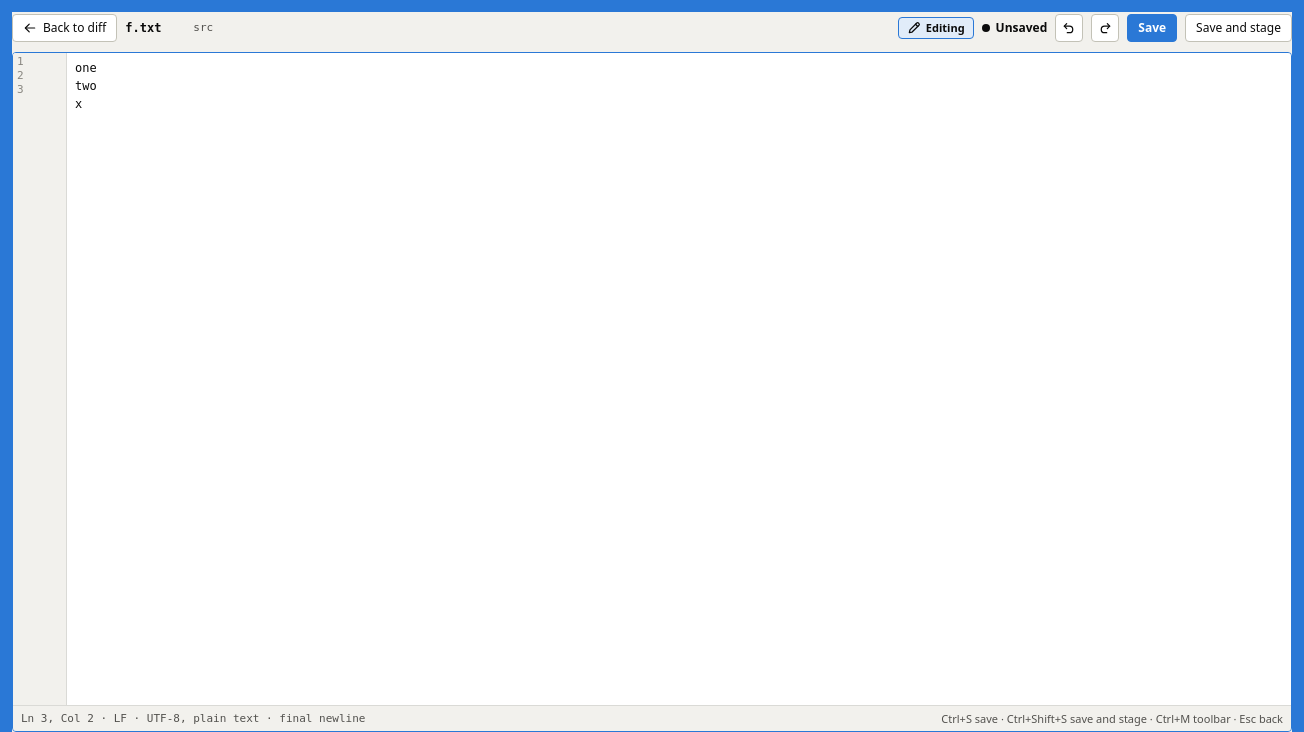
Test: EditorPane save flow (specs/edit-in-diff.md FR-470, FR-474, FR-537) › a write error shows the one-line banner with the raw detail behind Show details; the buffer stays dirty
Press s in the field named "Editing src/f.txt", box [75,61,97,111]
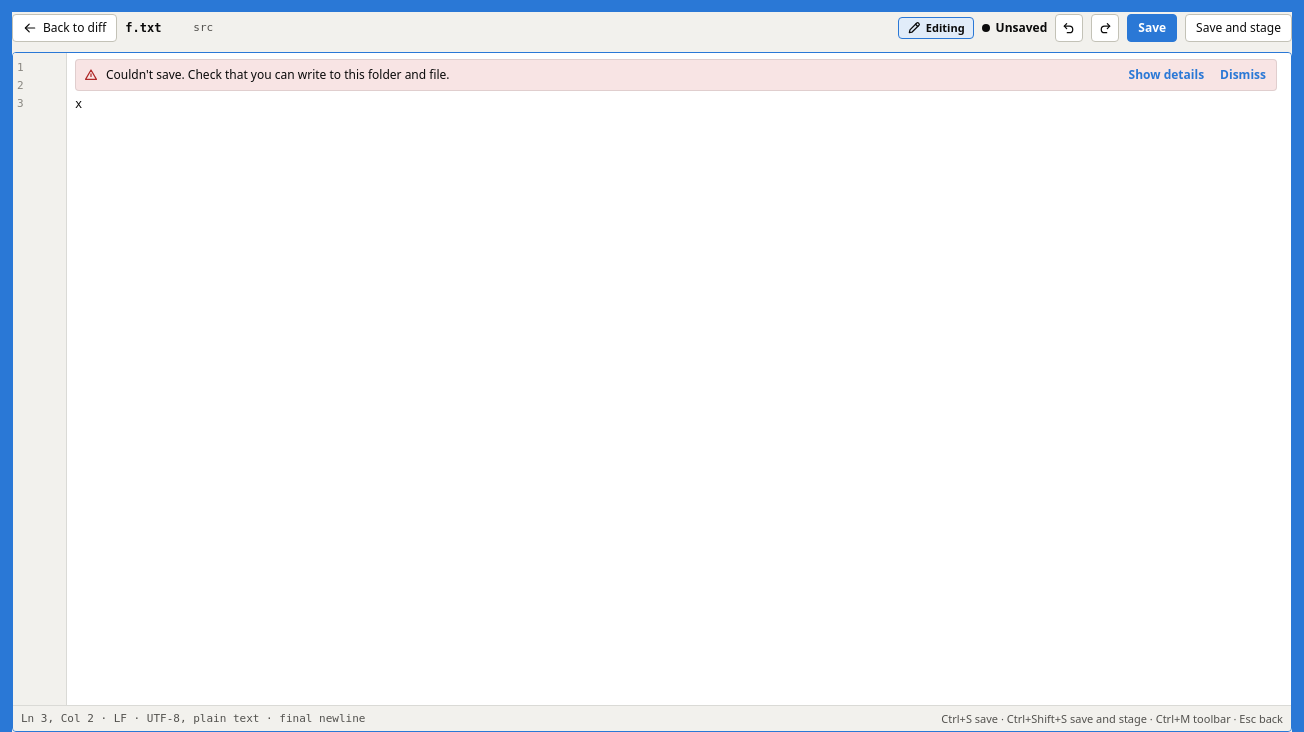
Check: the text "read-only: The file is read-only" is not shown
Check: the message shows "Couldn't save. Check that you can write to this folder and file.", box [106,66,450,83]
Click the button "Show details": (1166, 75) [1123,63,1210,87]
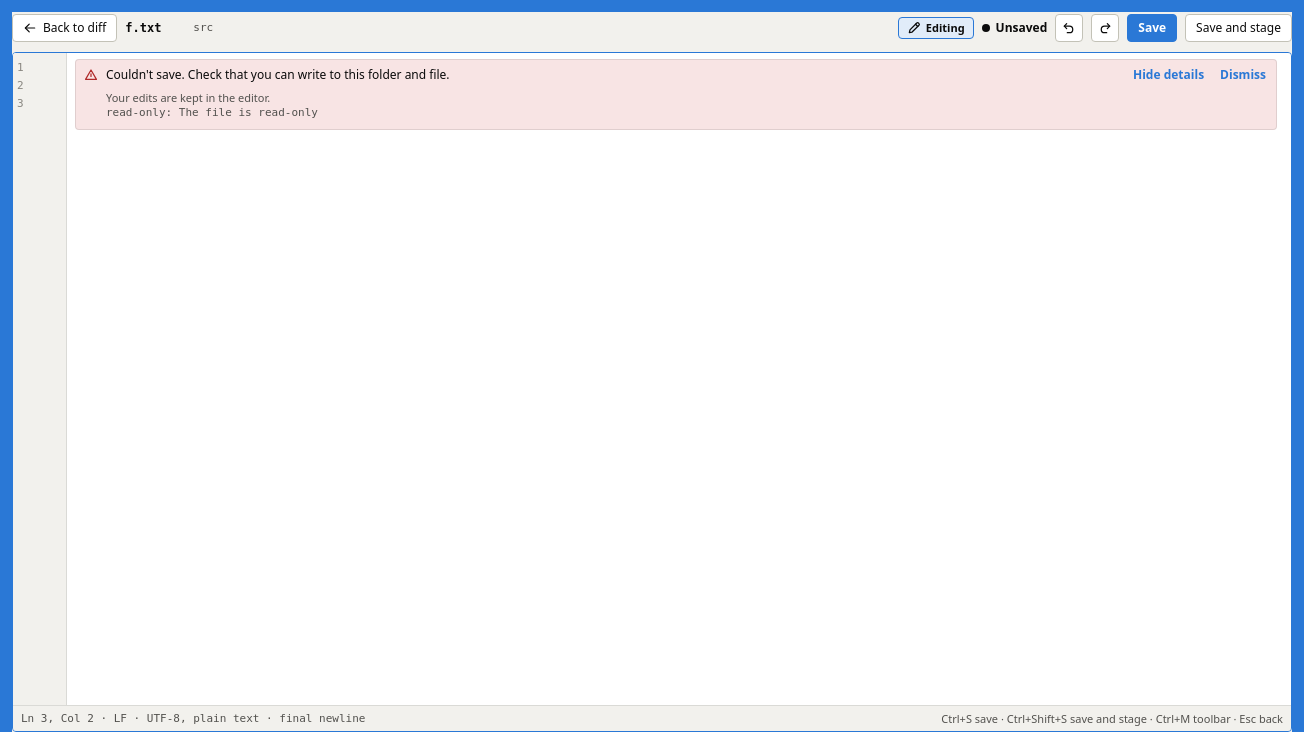
Check: the text "Unsaved" is shown, box [982,20,1047,36]
Check: the text "read-only: The file is read-only" is shown, box [106,106,318,119]
